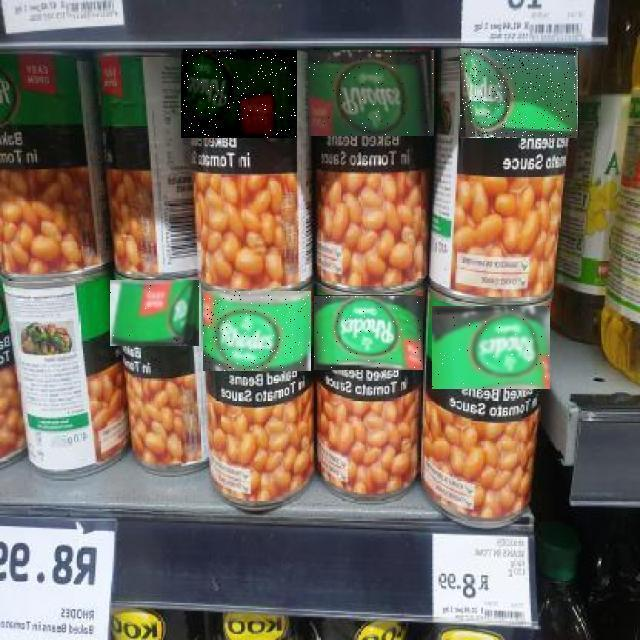Beans: (309, 50, 435, 136), (460, 48, 578, 138), (181, 50, 297, 138), (432, 306, 550, 389), (203, 291, 311, 371), (314, 296, 423, 370), (110, 280, 199, 346)
